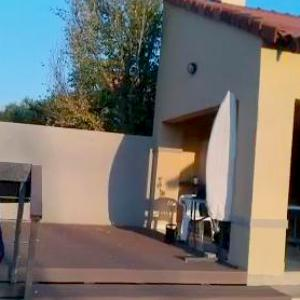follow: (0, 109, 8, 299)
